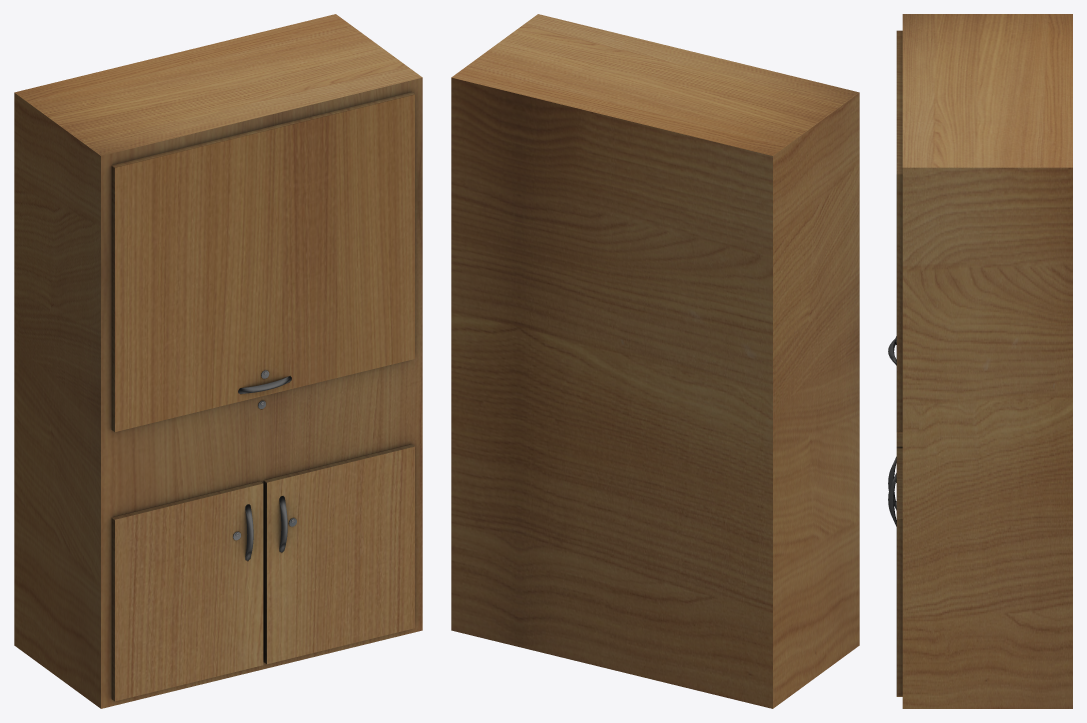
File: szafatelewizorna.fbx
3 views of the same model, side by side, from view 1: azimuth 30°, elevation 25°; view 2: azimuth 150°, elevation 25°; view 3: azimuth 270°, elevation 25° (orthographic). The views are drawn at different scales.
Parts seen in each view (by area): view 1: Cube.008, Cube.001; view 2: Cube.008; view 3: Cube.008, Cube.001.
Boxes of the visible parts, x1,y1,x2,y2 form: Cube.008: (14, 14, 422, 708); Cube.001: (111, 444, 414, 701); Cube.008: (451, 14, 859, 708); Cube.008: (888, 14, 1072, 708); Cube.001: (896, 433, 902, 696).
Bounding box in the file's own units: 334 × 548 × 170.
